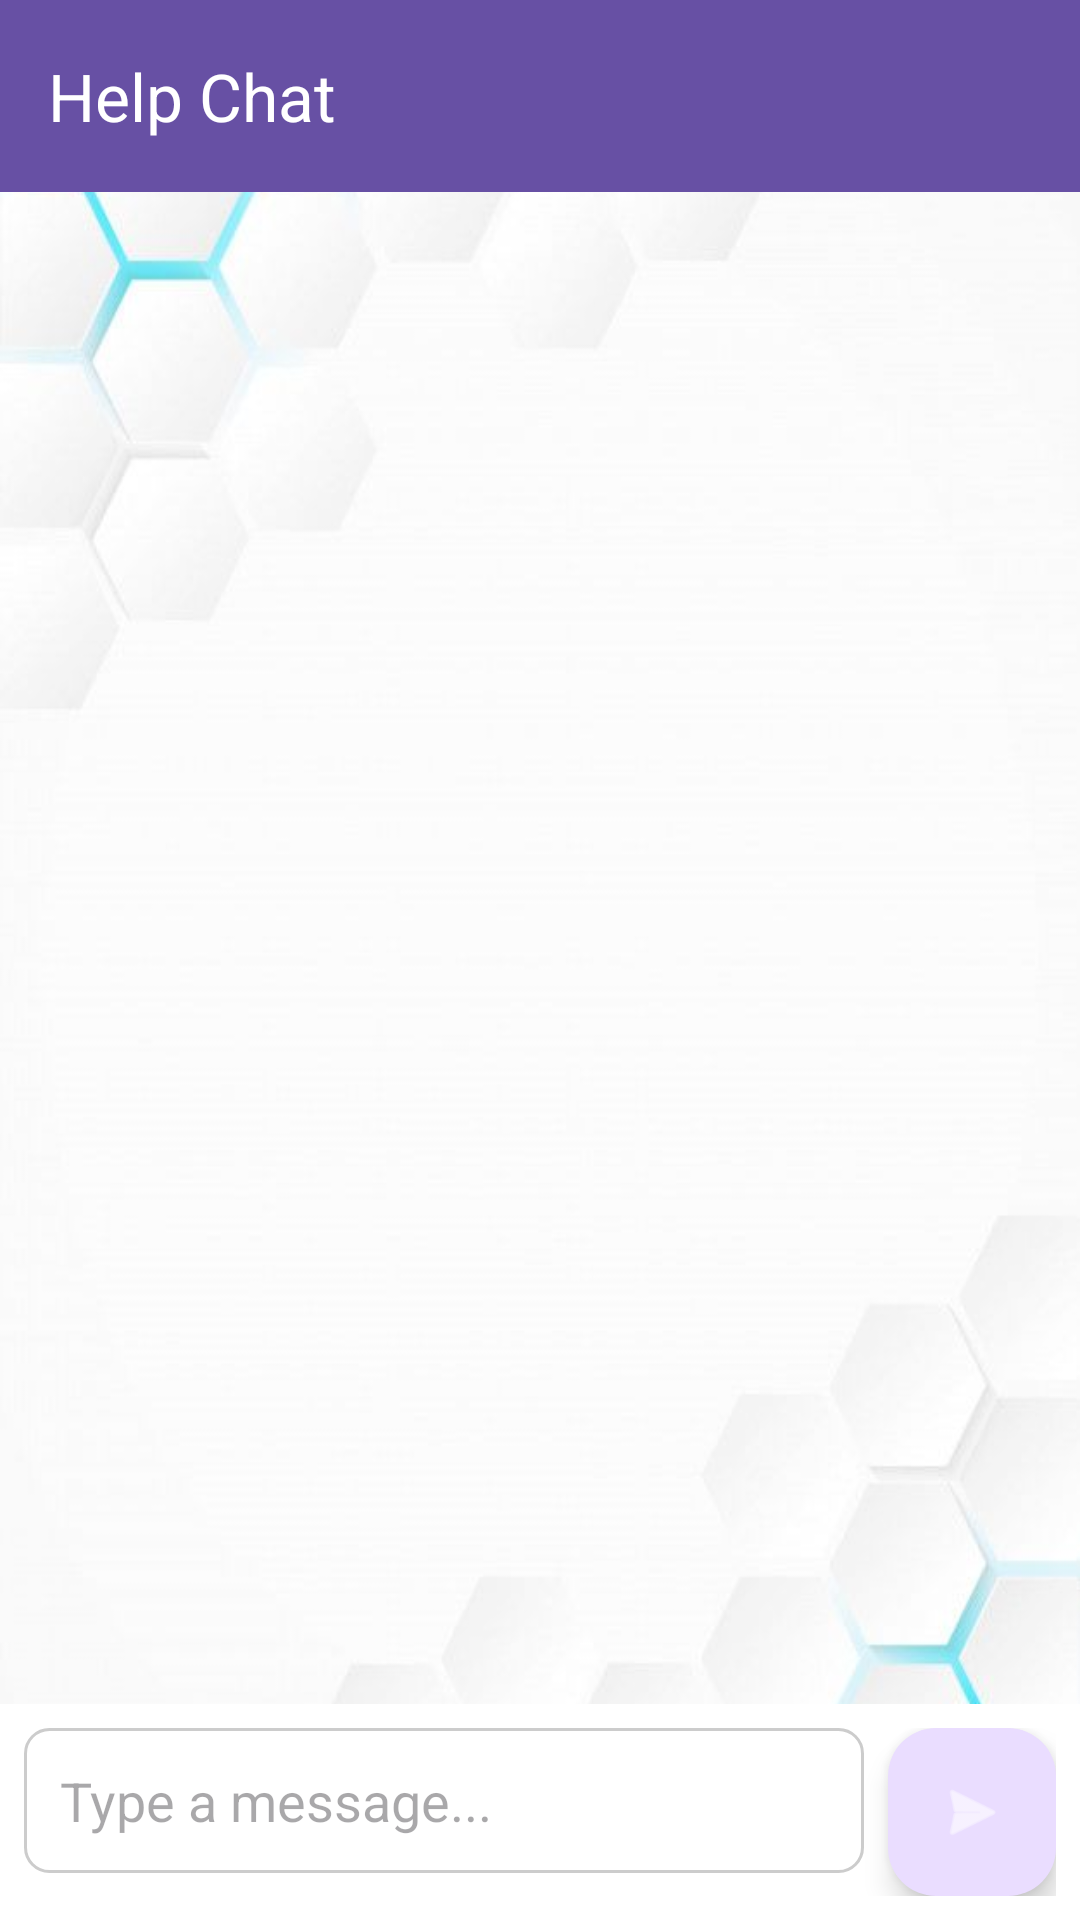

Icon click points for this 1080×1920 phone screenshot, format (x=x, y=y):
send: (x=972, y=1812)
